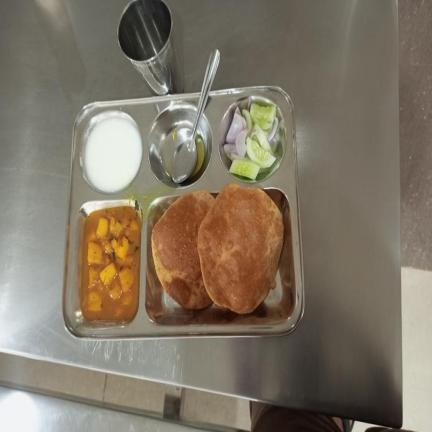Aalu Ki Sabji: (82, 206, 141, 322)
Dahi: (84, 119, 141, 191)
Plate: (62, 84, 306, 341)
Puri: (152, 182, 286, 315)
Salad: (224, 94, 280, 181)
